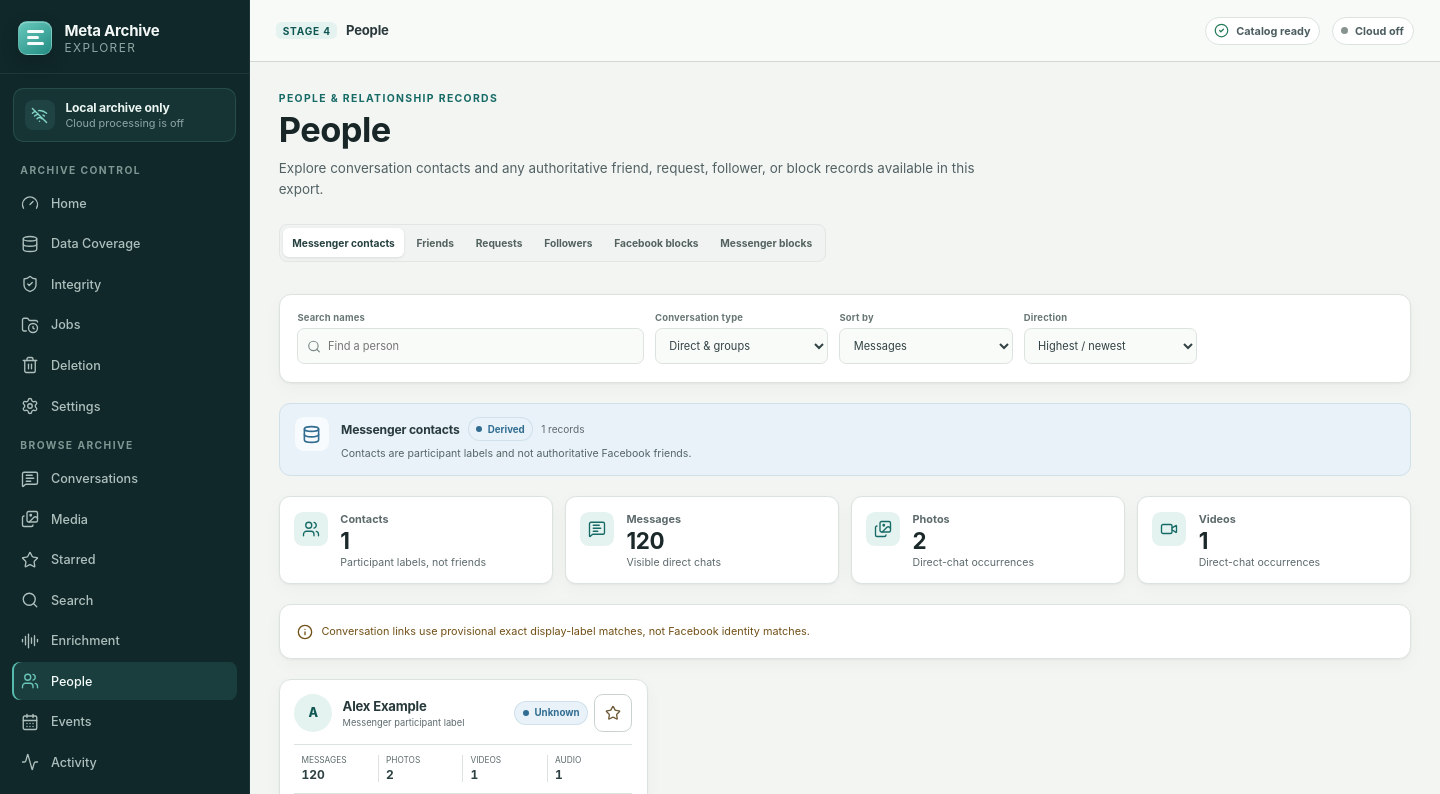
Stage 4 archive views › keeps Messenger contacts separate from authoritative friend history
Expected: the heading "People" is shown, top-left (279, 109), bottom-right (391, 150)
Expected: the heading "Alex Example" is shown, top-left (343, 698), bottom-right (427, 714)
Step 1. Click the button "Friends" → x=435, y=243, box top-left (407, 228), bottom-right (463, 257)
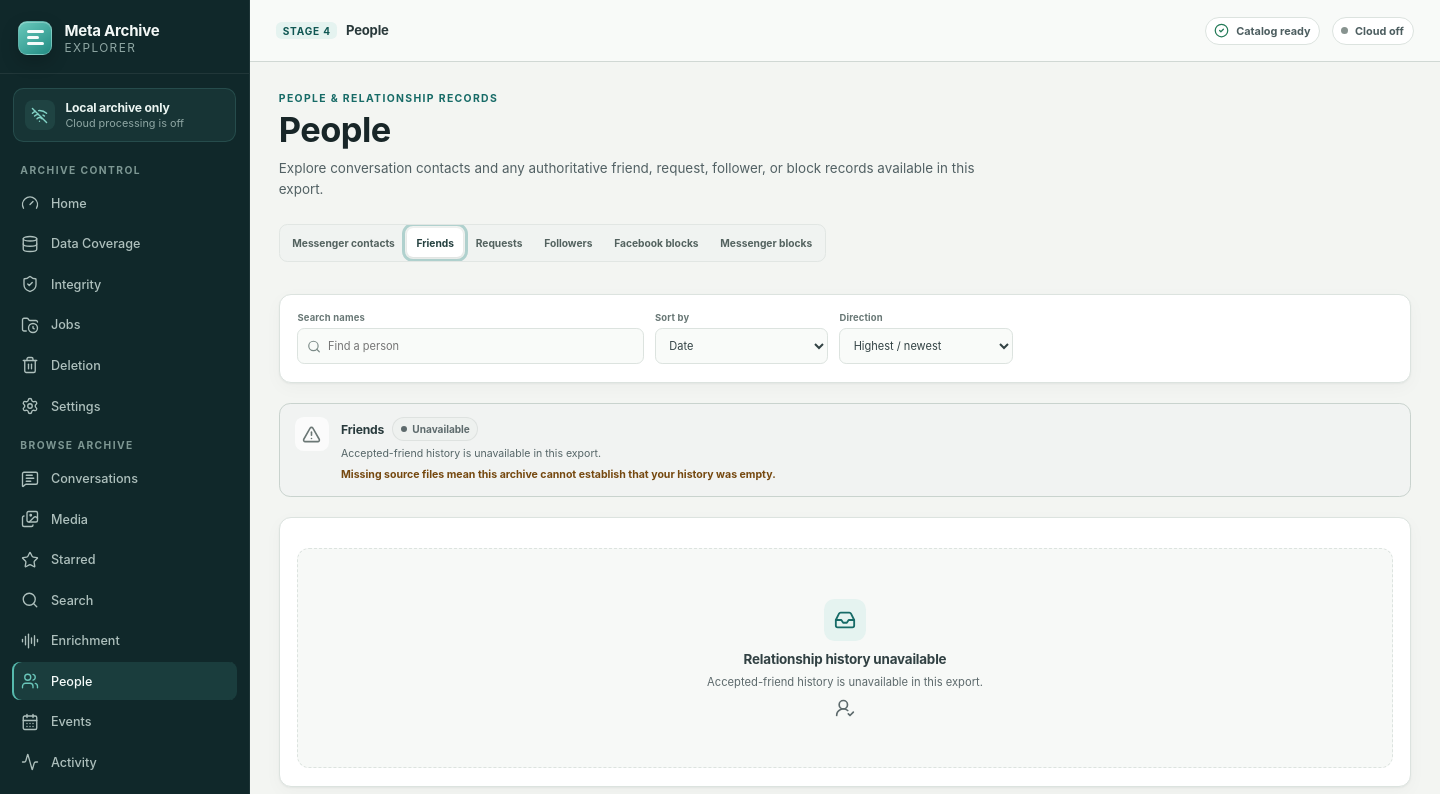
Expected: the 1st text "Accepted-friend history is unavailable in this export." is shown, top-left (341, 447), bottom-right (601, 460)
Expected: the text "cannot establish that your history was empty" is shown, top-left (341, 468), bottom-right (776, 481)
